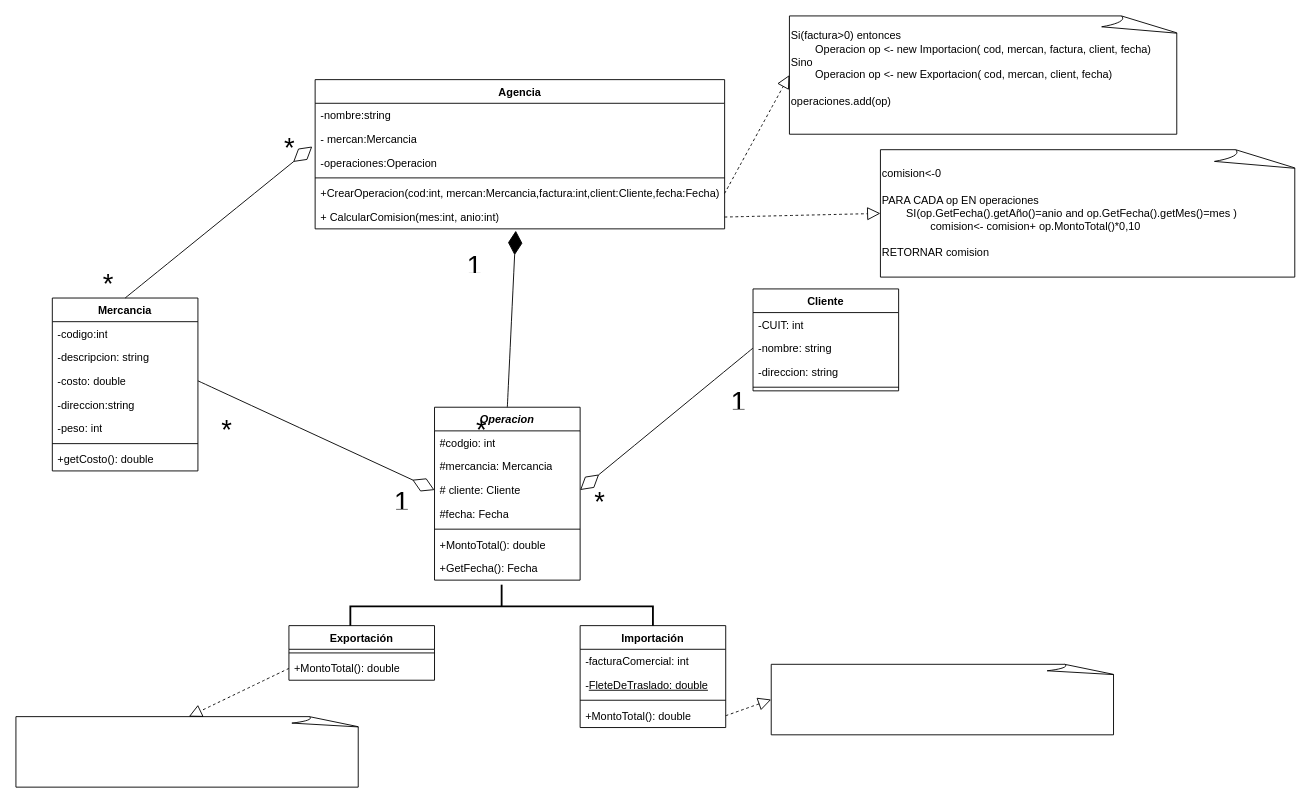
The diagram is 1315 pixels wide and 804 high, and some of its shapes have lost their labels. The shapes that lost their labels are listed below. From the top down, each one's centre as x and y in pixels, then its label:
the point at 943,699: montoTotal<-mercancia.getCosto()*0.15 + FleteDeTraslado
the point at 188,751: montoTotal<-mercancia.getCosto()*0.20 +
